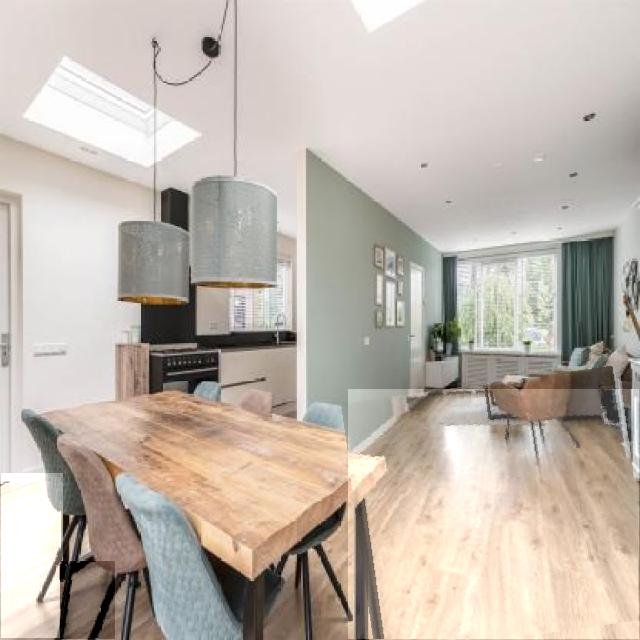floor: (348, 390, 639, 640), (1, 473, 63, 638), (309, 493, 361, 640), (259, 553, 311, 640), (61, 562, 115, 640)
